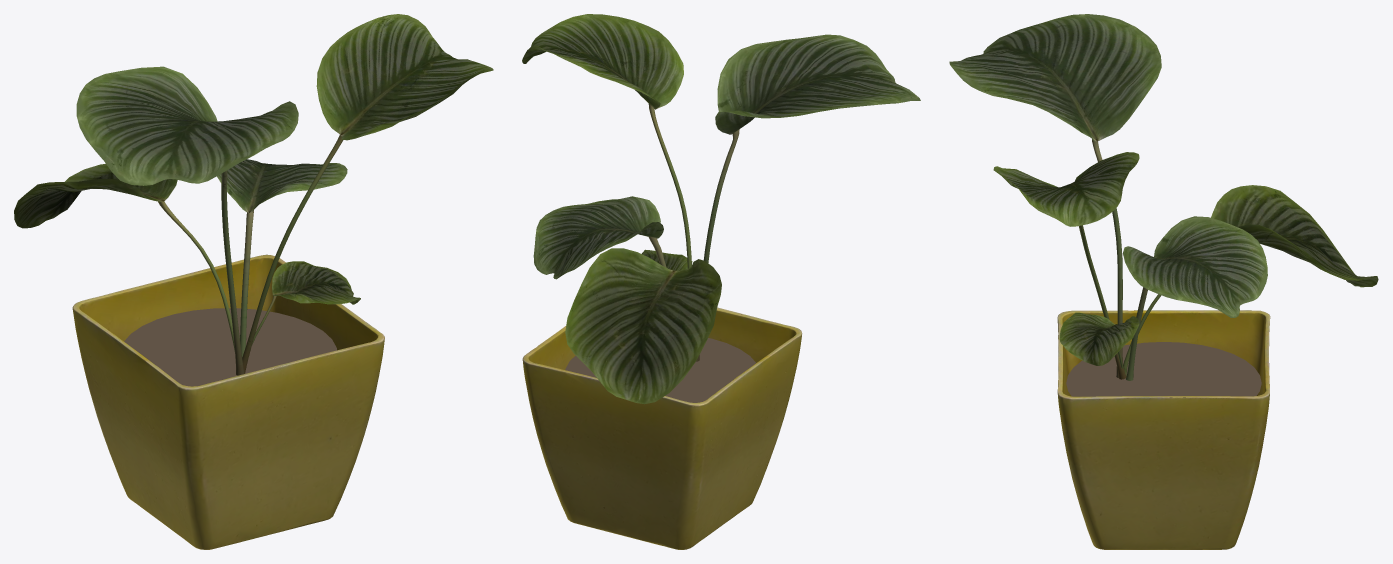
The model's file is ph-calathea-harvest.glb.
The picture shows the model from 3 angles, left to right: view 1: azimuth 30°, elevation 25°; view 2: azimuth 150°, elevation 25°; view 3: azimuth 270°, elevation 25°; orthographic projection. The views are drawn at different scales.
Visible parts, largest first — view 1: Ecoforms_Plant_Container_QP6HARVEST, calathea_orbifolia_01_c, soil; view 2: calathea_orbifolia_01_c, Ecoforms_Plant_Container_QP6HARVEST, soil; view 3: calathea_orbifolia_01_c, Ecoforms_Plant_Container_QP6HARVEST, soil.
Part boxes in pixels (x1,y1,x2,y2): Ecoforms_Plant_Container_QP6HARVEST: (72,254,384,549); calathea_orbifolia_01_c: (14,14,493,375); soil: (124,308,336,386); calathea_orbifolia_01_c: (522,14,920,404); Ecoforms_Plant_Container_QP6HARVEST: (522,307,802,549); soil: (565,338,755,402); calathea_orbifolia_01_c: (949,14,1378,380); Ecoforms_Plant_Container_QP6HARVEST: (1057,310,1270,549); soil: (1066,342,1261,396).
Size of the model in its own units: 0.3752 by 0.4217 by 0.3838.
3 materials, 2 textured.
